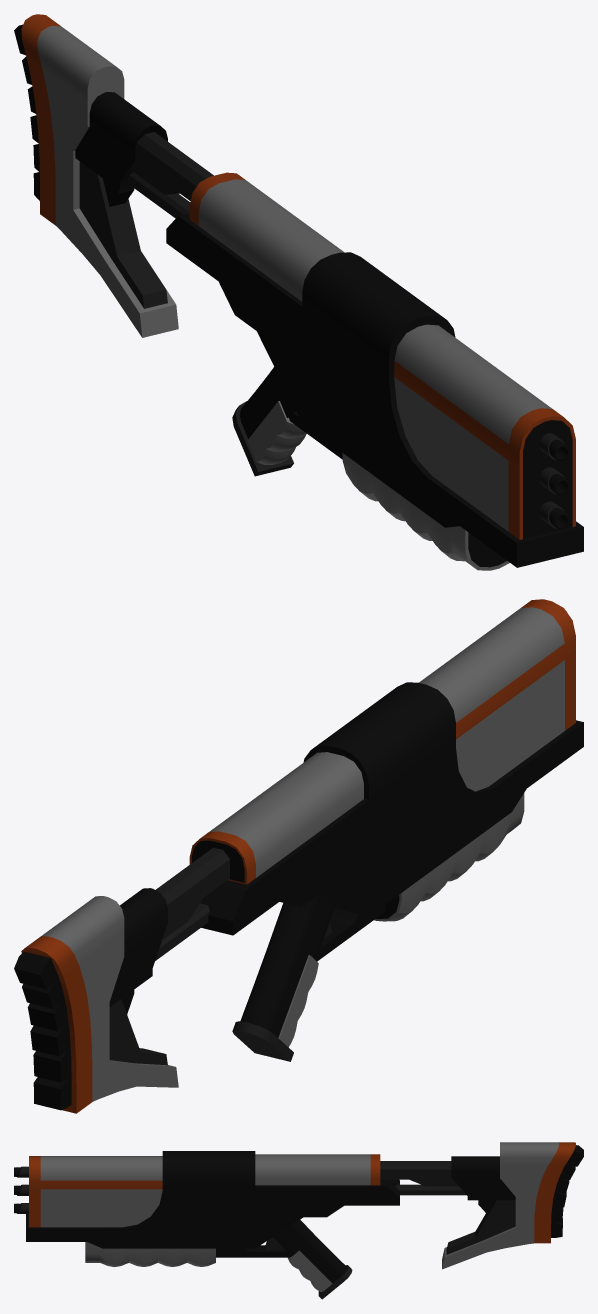
3 views of the same model, one above another, from view 1: azimuth 30°, elevation 25°; view 2: azimuth 150°, elevation 25°; view 3: azimuth 270°, elevation 25° (orthographic). The views are drawn at different scales.
Parts seen in each view (by area): view 1: AR_1; view 2: AR_1; view 3: AR_1.
Boxes of the visible parts, bbox=[...] form: AR_1: bbox=[14, 14, 583, 570]; AR_1: bbox=[14, 599, 583, 1113]; AR_1: bbox=[14, 1142, 583, 1299].
Size of the model in its own units: 0.1366 by 0.5528 by 1.89.
